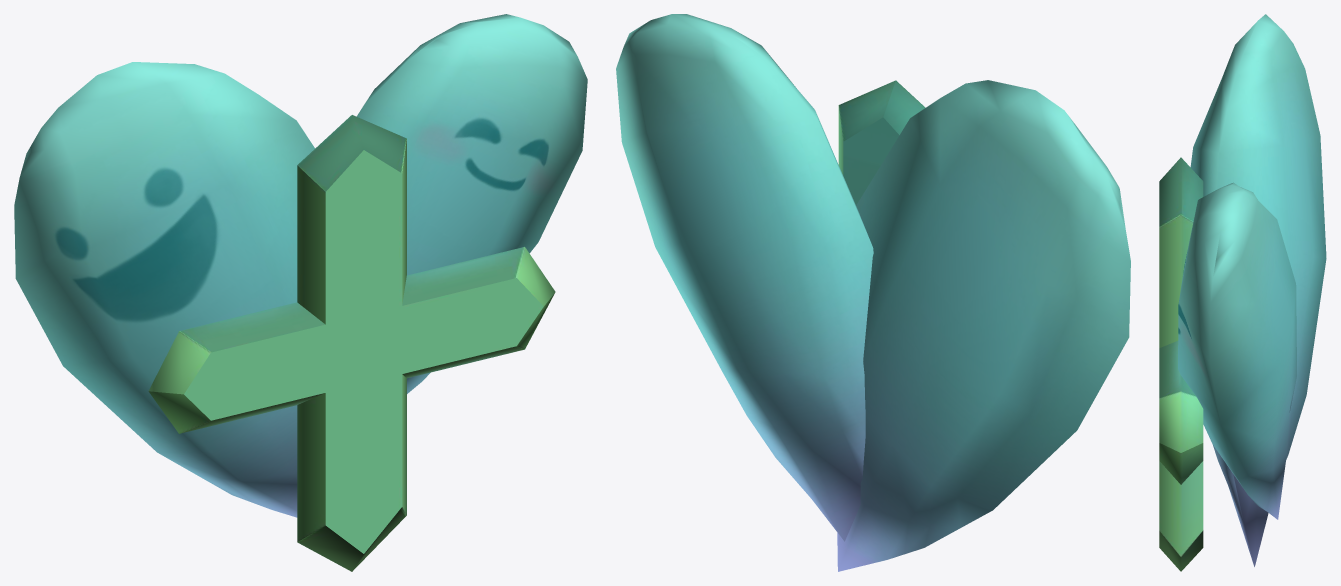
Rendered from healthPickup.fbx.
The picture shows the model from 3 angles, left to right: view 1: azimuth 30°, elevation 25°; view 2: azimuth 150°, elevation 25°; view 3: azimuth 270°, elevation 25°; orthographic projection. The views are drawn at different scales.
Visible parts, largest first — view 1: polySurface4, pCube1, pasted__polySurface2; view 2: polySurface4, pasted__polySurface2, pCube1; view 3: pasted__polySurface2, polySurface4, pCube1.
Boxes of the visible parts, x1,y1,x2,y2 form: polySurface4: [14, 62, 314, 517]; pCube1: [148, 115, 555, 571]; pasted__polySurface2: [357, 14, 587, 393]; polySurface4: [837, 80, 1130, 571]; pasted__polySurface2: [616, 14, 873, 541]; pCube1: [838, 80, 925, 205]; pasted__polySurface2: [1178, 182, 1296, 519]; polySurface4: [1190, 14, 1326, 566]; pCube1: [1159, 157, 1203, 571].
Size of the model in its own units: 17.92 by 16.75 by 5.35.
Materials: 1 (1 with a texture image).
